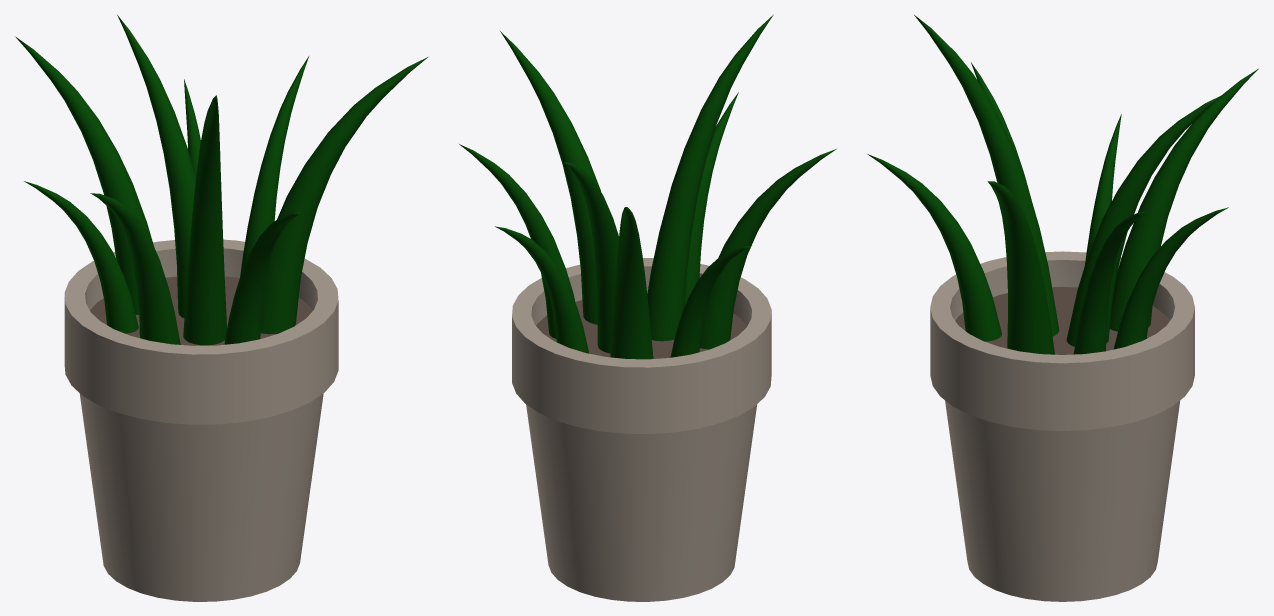
Rendered from Plante6_1.fbx.
3 renders of one model, left to right at view 1: azimuth 30°, elevation 25°; view 2: azimuth 150°, elevation 25°; view 3: azimuth 270°, elevation 25°, orthographic. The views are drawn at different scales.
Visible parts, largest first — view 1: pCylinder717, pCone5, pCone7, pCone4, pCone9, pCone2, pCone3, pCone1, pCone8, pCylinder721, pCone6; view 2: pCylinder717, pCone7, pCone5, pCone2, pCone4, pCone9, pCone6, pCone8, pCone3, pCone1, pCylinder721; view 3: pCylinder717, pCone4, pCone5, pCone7, pCone1, pCone9, pCone8, pCone6, pCylinder721, pCone3.
Part boxes in pixels (box(x1,y1,x2,y2)): pCylinder717: box(64, 239, 338, 601); pCone5: box(260, 57, 427, 334); pCone7: box(183, 95, 226, 345); pCone4: box(15, 36, 153, 314); pCone9: box(117, 15, 195, 317); pCone2: box(90, 193, 180, 344); pCone3: box(24, 181, 138, 333); pCone1: box(224, 212, 301, 344); pCone8: box(240, 56, 308, 275); pCylinder721: box(90, 276, 312, 345); pCone6: box(184, 79, 200, 176); pCylinder717: box(512, 258, 771, 601); pCone7: box(647, 14, 773, 341); pCone5: box(500, 31, 600, 324); pCone2: box(700, 149, 836, 349); pCone4: box(610, 207, 653, 359); pCone9: box(563, 161, 618, 353); pCone6: box(495, 226, 589, 353); pCone8: box(459, 144, 575, 338); pCone3: box(670, 245, 751, 357); pCone1: box(684, 92, 738, 306); pCylinder721: box(536, 292, 747, 358); pCylinder717: box(930, 251, 1194, 601); pCone4: box(1110, 68, 1258, 331); pCone5: box(987, 181, 1054, 354); pCone7: box(914, 15, 1059, 336); pCone1: box(867, 154, 1001, 341); pCone9: box(1066, 94, 1223, 346); pCone8: box(1073, 211, 1144, 354); pCone6: box(1113, 207, 1228, 349); pCylinder721: box(955, 286, 1169, 354); pCone3: box(1085, 114, 1121, 264).
Size of the model in its own units: 16.41 by 24.2 by 16.64.
